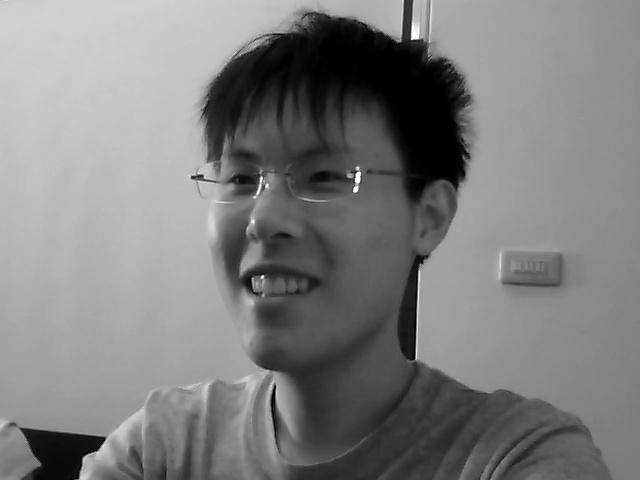eye_open: (302, 165, 352, 193), (221, 165, 257, 196)
face: (205, 84, 414, 370)
